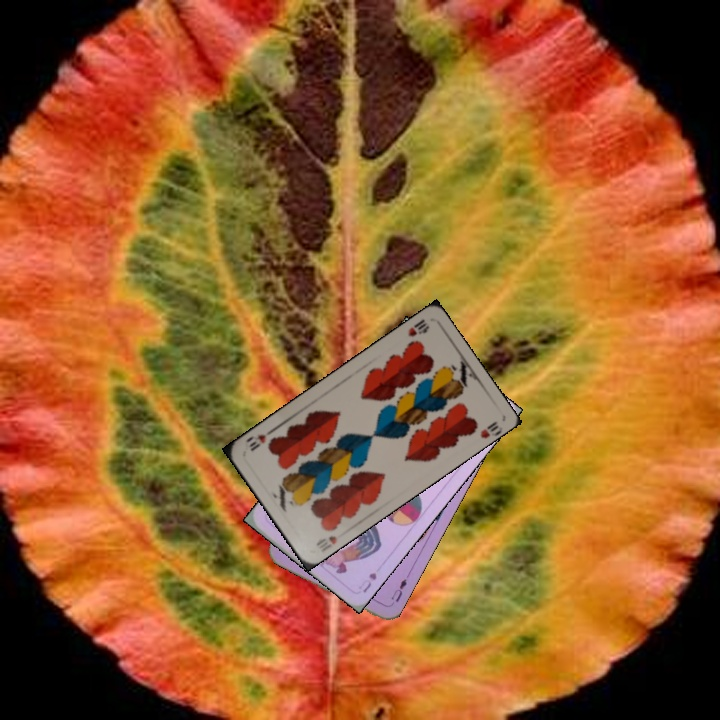EU: (386, 575, 409, 608)
H10: (404, 315, 432, 339), (312, 531, 339, 548)
SU: (354, 568, 379, 595)
